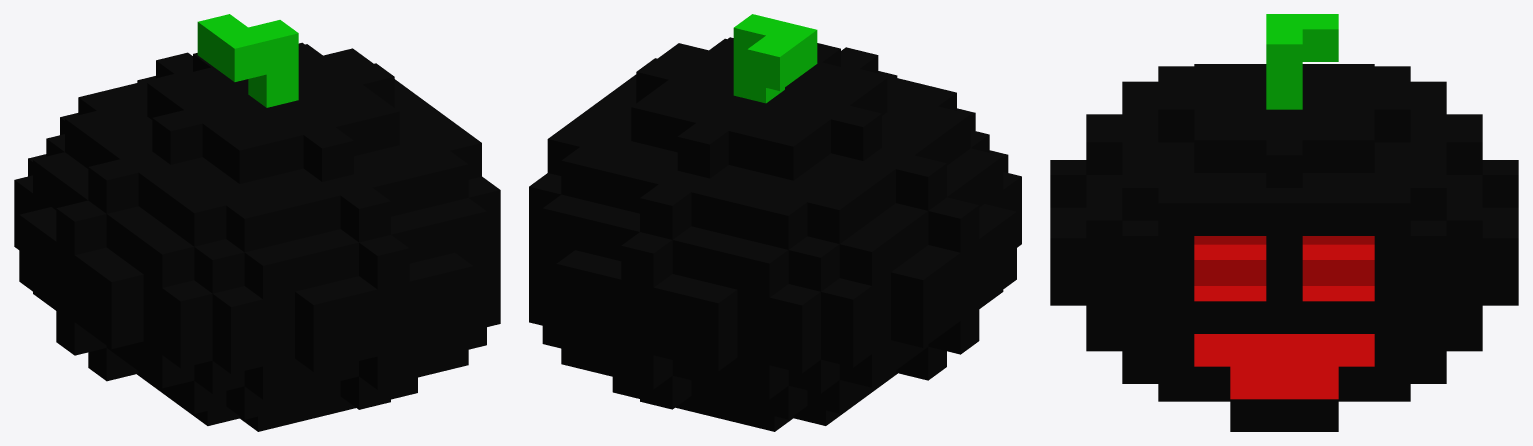
File: Pumpkin.fbx
The picture shows the model from 3 angles, left to right: view 1: azimuth 30°, elevation 25°; view 2: azimuth 150°, elevation 25°; view 3: azimuth 270°, elevation 25°; orthographic projection. The views are drawn at different scales.
Visible parts, largest first — view 1: pumpkin; view 2: pumpkin; view 3: pumpkin.
Boxes of the visible parts, x1=… form: pumpkin: x1=14, y1=14, x2=500, y2=431; pumpkin: x1=529, y1=14, x2=1021, y2=431; pumpkin: x1=1050, y1=14, x2=1518, y2=431.
Size of what is drawn, in the model's own units: 1.1 by 1 by 1.3.
